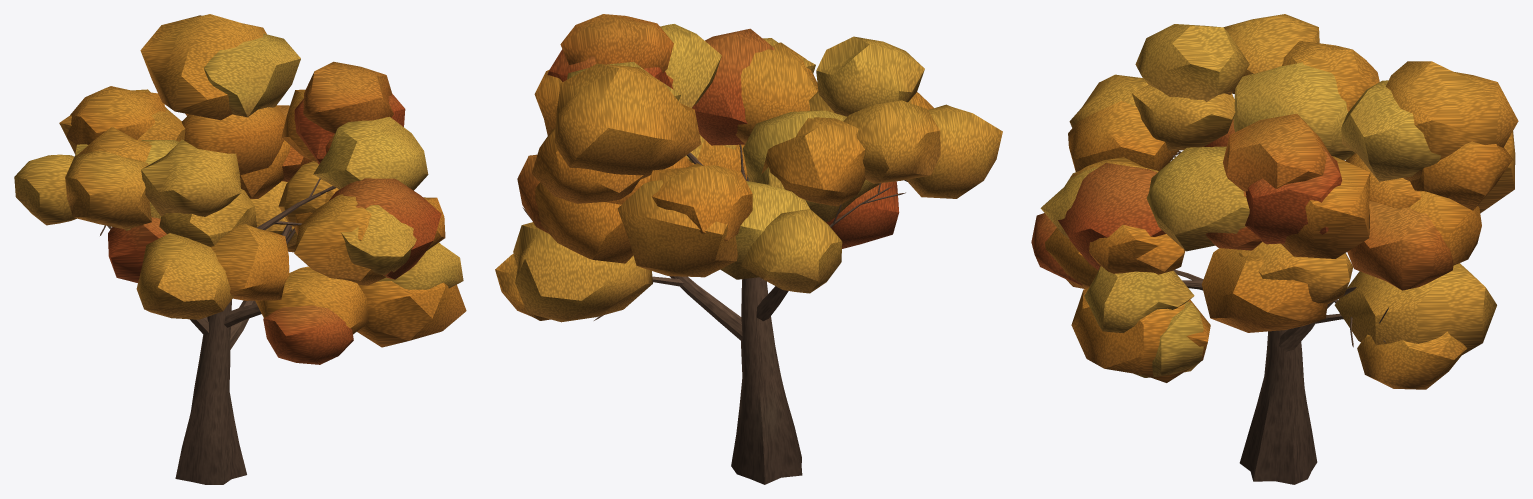
Rendered from fm_tree_autumn_a.glb.
3 views of the same model, side by side, from view 1: azimuth 30°, elevation 25°; view 2: azimuth 150°, elevation 25°; view 3: azimuth 270°, elevation 25° (orthographic). The views are drawn at different scales.
Visible parts, largest first — view 1: fm_tree_autumn_a; view 2: fm_tree_autumn_a; view 3: fm_tree_autumn_a.
Boxes of the visible parts, x1=… form: fm_tree_autumn_a: x1=14, y1=14, x2=466, y2=484; fm_tree_autumn_a: x1=495, y1=14, x2=1002, y2=484; fm_tree_autumn_a: x1=1031, y1=14, x2=1518, y2=484.
Size of the model in its own units: 7.9 by 9 by 8.9.
2 materials, 2 textured.
